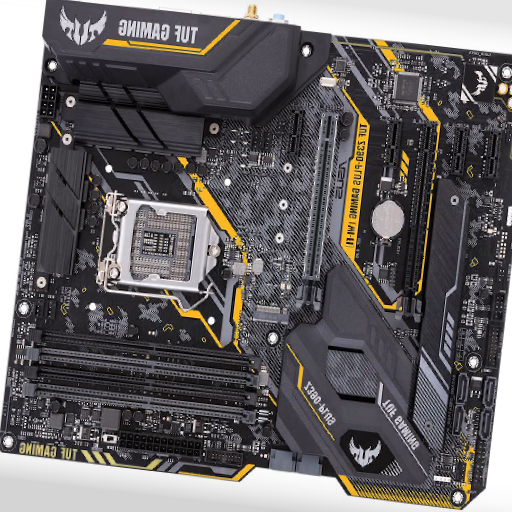CPU: (96, 192, 221, 294)
GPU: (294, 112, 340, 310), (395, 121, 438, 321)
MOTHERBOARD: (1, 52, 510, 491)
RAM: (21, 328, 261, 427)
SSD: (250, 305, 290, 325)
